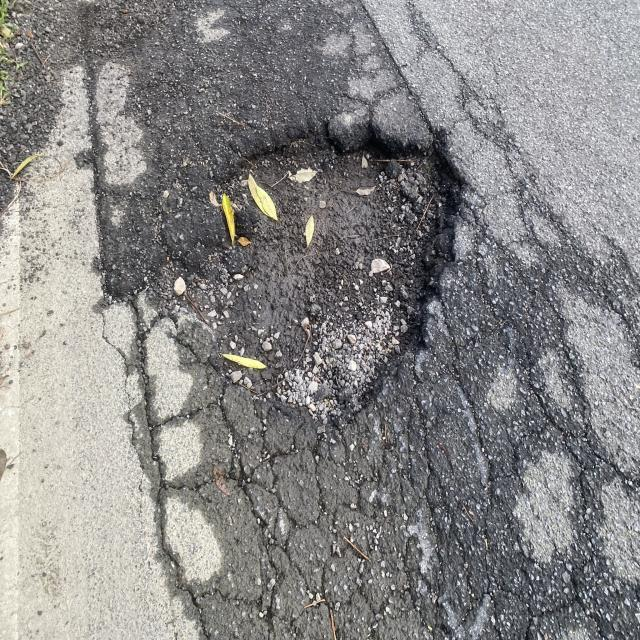pothole: (127, 45, 532, 428)
